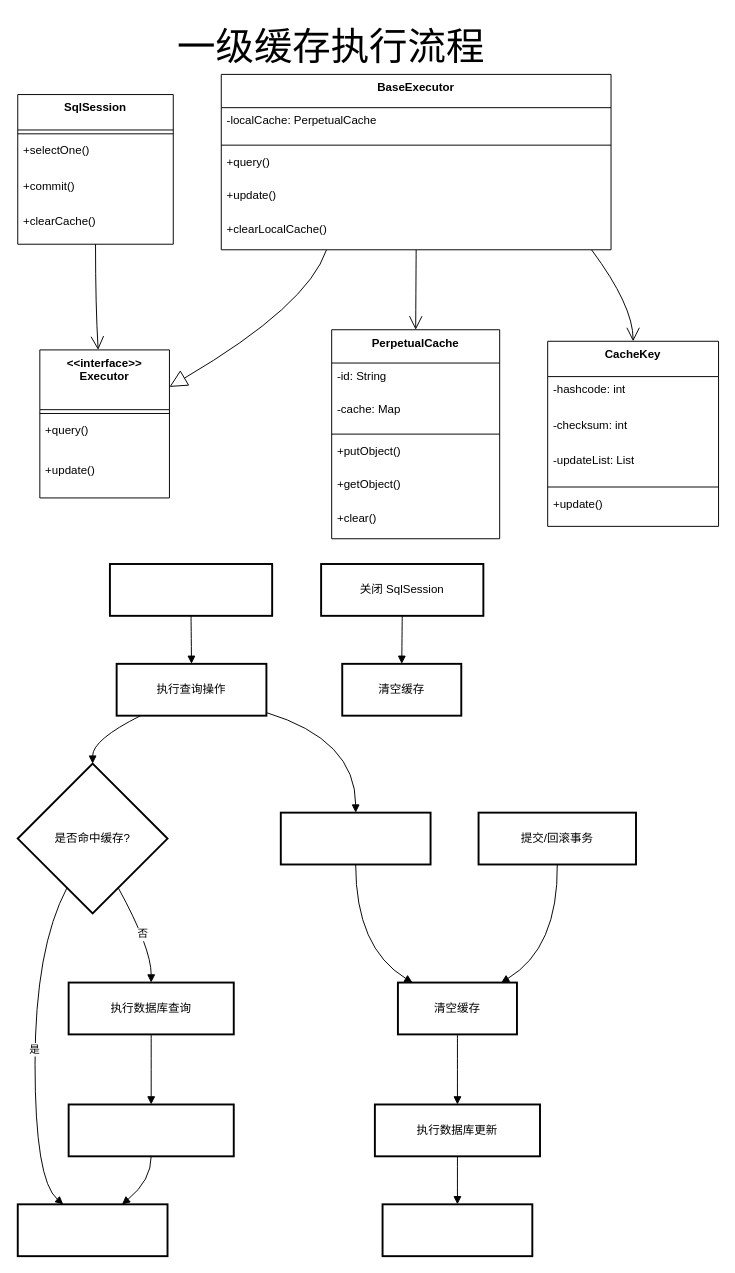
This 735x1273 diagram has some shape labels left out. Each missing label, with the centre of its shape:
"创建 SqlSession" belongs at point 190,589.
"将结果存入缓存" belongs at point 150,1130.
"执行更新操作" belongs at point 355,838.
"返回更新结果" belongs at point 457,1230.
"返回缓存结果" belongs at point 92,1230.
